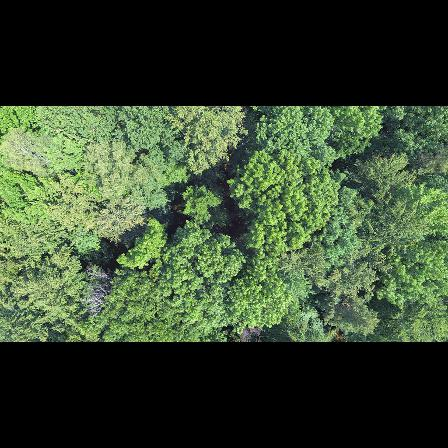Dead: (81, 263, 114, 319)
